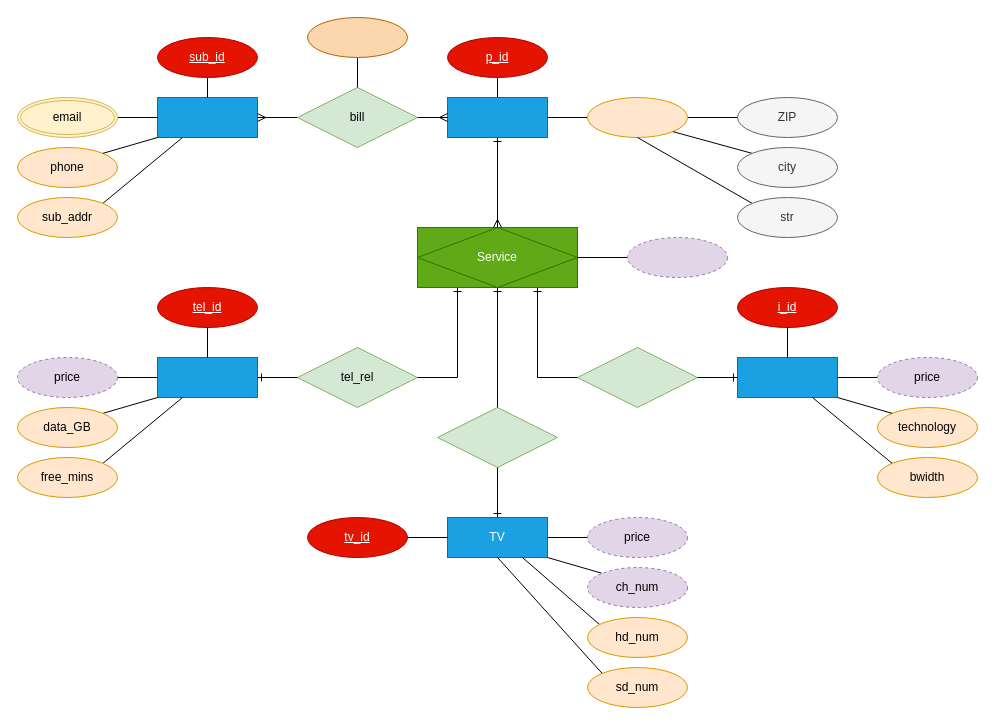
Image size: 995x725. Some labels were removed from this diagram. Here are the shapes that lost their labels. From the top down, the centre of each, then its label:
(x=357, y=37): plan_no
(x=207, y=117): Subscriber
(x=497, y=117): Plan
(x=637, y=117): address
(x=677, y=257): price_sum
(x=207, y=377): Telephone
(x=637, y=377): i_rel
(x=787, y=377): Internet
(x=497, y=437): tv_rel
